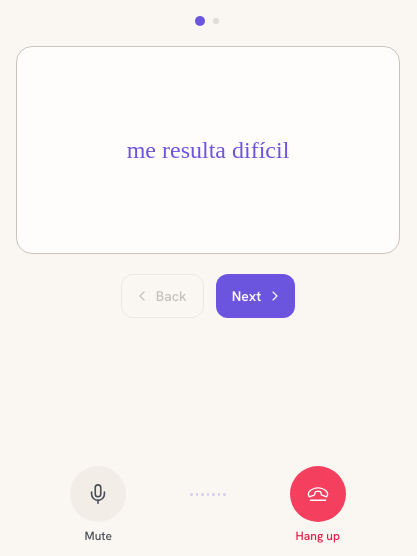
Test: LessonClient (Study mode) › advancing past last card enters complete state
Expected: the text "me resulta difícil" is shown, [127,136,289,162]
Click the button with test id "advance-card" at (255, 296), box [216,274,295,318]
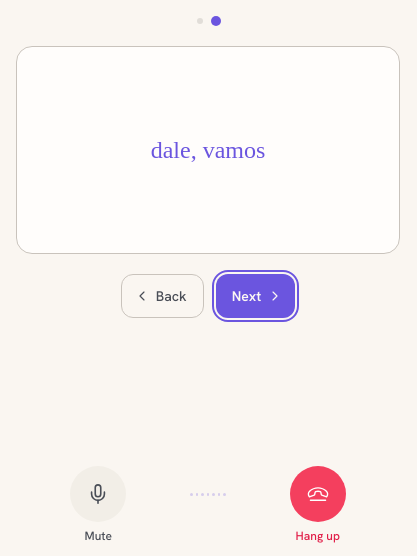
Result: the text "dale, vamos" is shown at [151,136,265,162]
Click the button with test id "advance-card" at (255, 296), box [216,274,295,318]
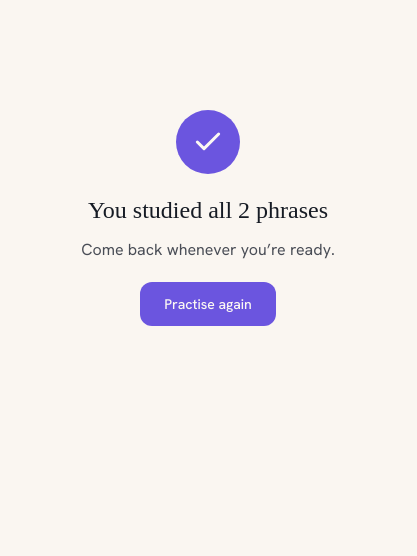
Result: the heading "You studied all 2 phrases" is shown at [88,194,328,226]
